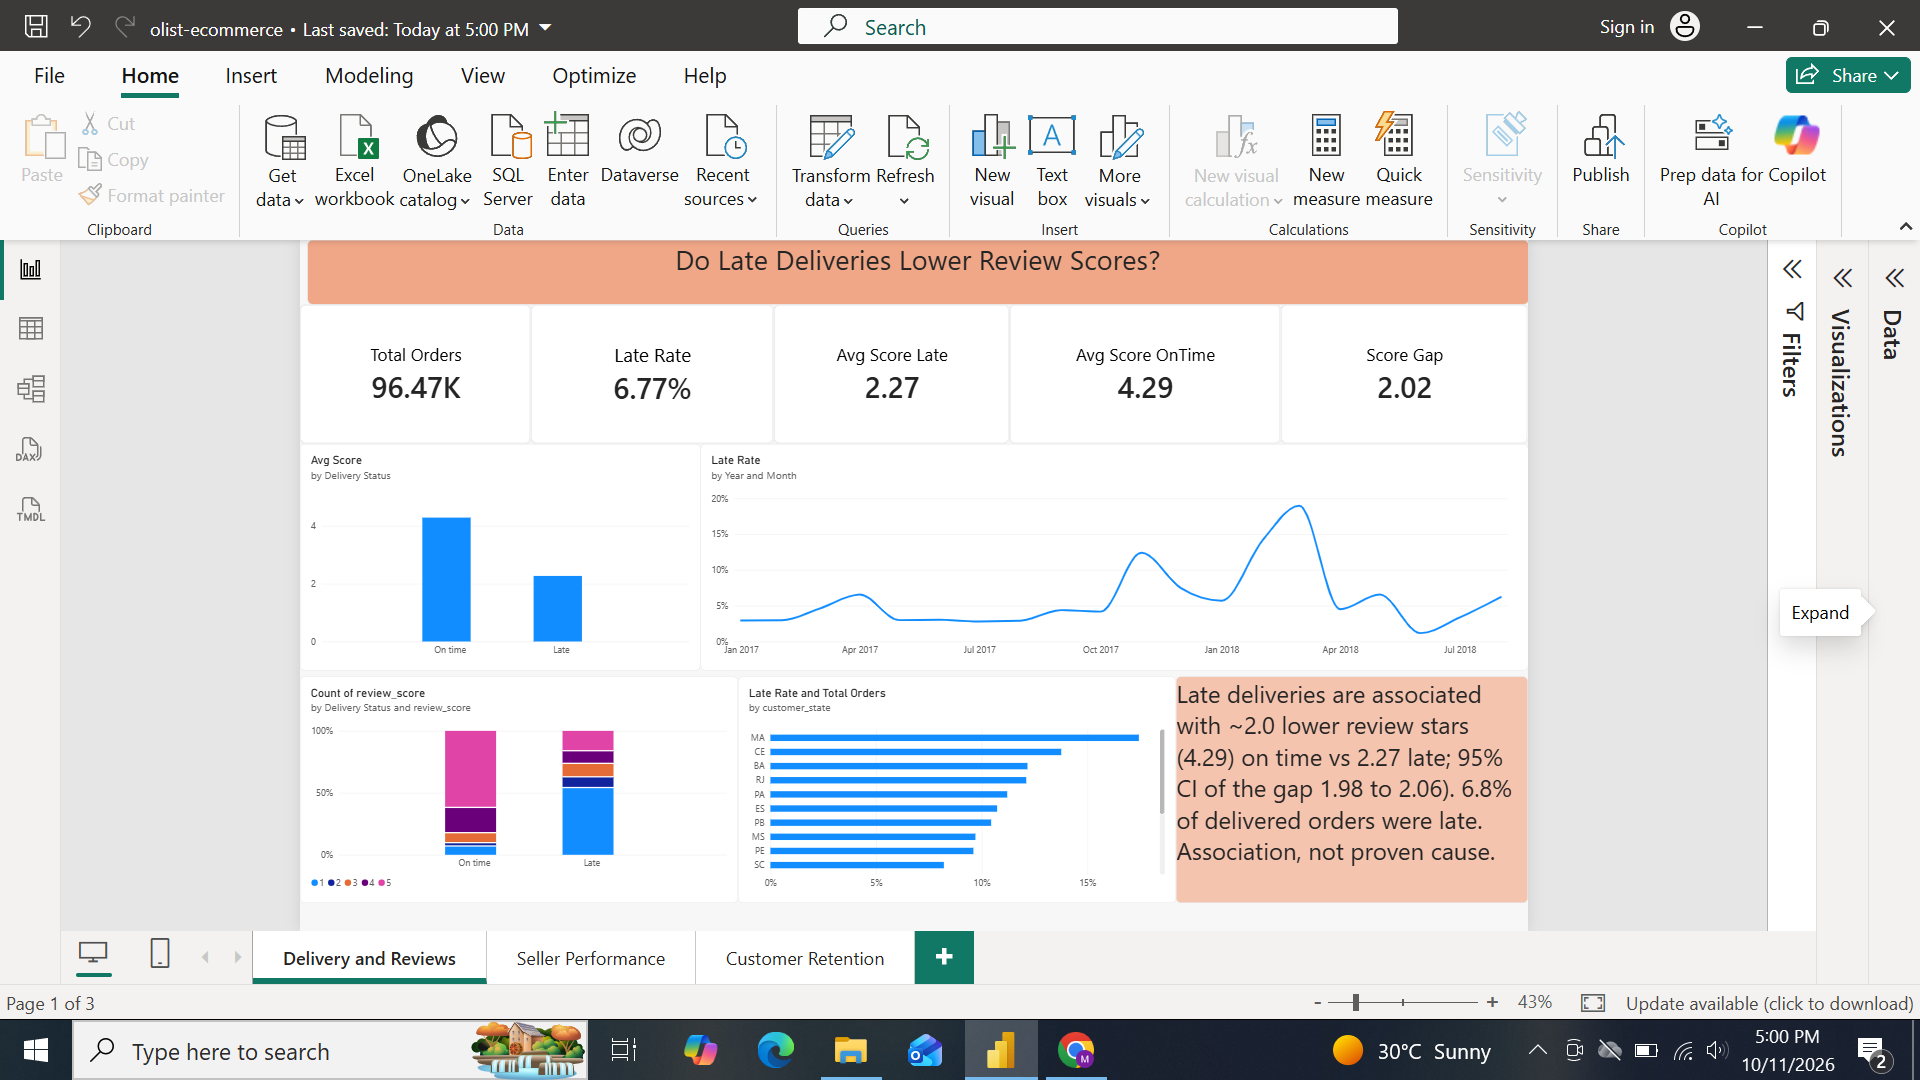

The page's visual inventory and layout, read from the dashboard file:
{"tool":"powerbi","page":{"name":"Delivery and Reviews","canvas":[1920,1080],"ordinal":0},"visuals":[{"type":"textbox","box":[11.7,0,1908.4,100.8],"z":0},{"type":"cardVisual","fields":{"Data":["fact_orders.Total Orders"]},"box":[0,100.8,361.1,218],"z":1000},{"type":"cardVisual","fields":{"Data":["fact_orders.Late Rate"]},"box":[361.1,100.8,379.8,218],"z":2000},{"type":"cardVisual","fields":{"Data":["fact_orders.Avg Score Late"]},"box":[740.9,100.8,368.1,218],"z":3000},{"type":"cardVisual","fields":{"Data":["fact_orders.Avg Score OnTime"]},"box":[1108.9,100.8,424.4,218],"z":4000},{"type":"cardVisual","fields":{"Data":["fact_orders.Score Gap"]},"box":[1533.3,100.8,386.8,218],"z":5000},{"type":"clusteredColumnChart","fields":{"Category":["fact_orders.Delivery Status"],"Y":["fact_orders.Avg Score"]},"box":[0,318.8,626,354],"z":6000},{"type":"hundredPercentStackedColumnChart","fields":{"Category":["fact_orders.Delivery Status"],"Series":["fact_orders.review_score"],"Y":["CountNonNull(fact_orders.review_score)"]},"box":[0,682.2,684.6,354],"z":7000},{"type":"lineChart","fields":{"Category":["fact_orders.purchase_date.Variation.Date Hierarchy.Year","fact_orders.purchase_date.Variation.Date Hierarchy.Month"],"Y":["fact_orders.Late Rate"]},"box":[626,318.8,1294.2,354],"z":8000},{"type":"barChart","fields":{"Category":["fact_orders.customer_state"],"Y":["fact_orders.Late Rate"]},"box":[684.6,682.2,684.6,354],"z":9000},{"type":"textbox","box":[1370,682,550,354],"z":10000}]}

Visuals, with their boxes on the page's 1920x1080 design canvas (x1, y1, x2, y2). These are canvas units, not pixel positions in the 1920x1080 screenshot, which may show the page scaled, cropped or inside an application window:
textbox: Rect(12, 0, 1920, 101)
cardVisual - fact_orders.Total Orders: Rect(0, 101, 361, 319)
cardVisual - fact_orders.Late Rate: Rect(361, 101, 741, 319)
cardVisual - fact_orders.Avg Score Late: Rect(741, 101, 1109, 319)
cardVisual - fact_orders.Avg Score OnTime: Rect(1109, 101, 1533, 319)
cardVisual - fact_orders.Score Gap: Rect(1533, 101, 1920, 319)
clusteredColumnChart - fact_orders.Delivery Status x fact_orders.Avg Score: Rect(0, 319, 626, 673)
hundredPercentStackedColumnChart - fact_orders.Delivery Status x fact_orders.review_score: Rect(0, 682, 685, 1036)
lineChart - fact_orders.purchase_date.Variation.Date Hierarchy.Year x fact_orders.purchase_date.Variation.Date Hierarchy.Month: Rect(626, 319, 1920, 673)
barChart - fact_orders.customer_state x fact_orders.Late Rate: Rect(685, 682, 1369, 1036)
textbox: Rect(1370, 682, 1920, 1036)
